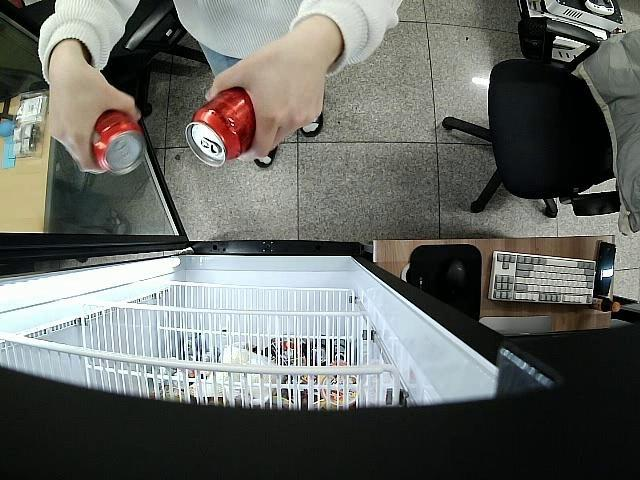11_cocaColaZero: (184, 86, 255, 170), (90, 110, 147, 174)
